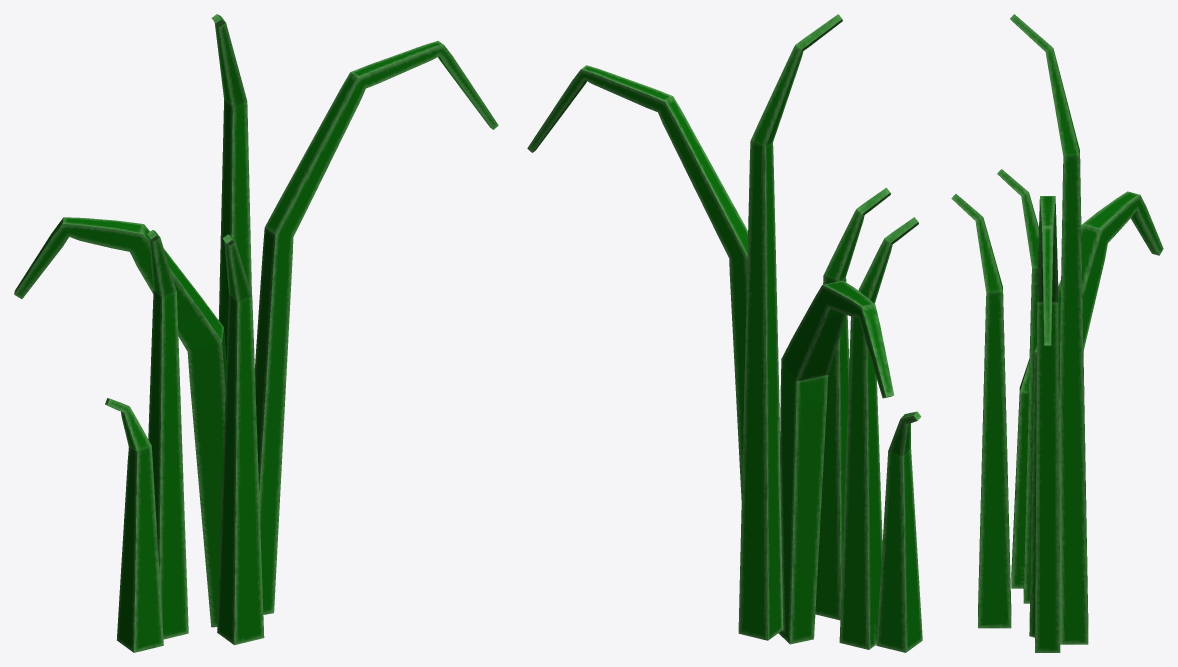
Rendered from Grass1.fbx.
The picture shows the model from 3 angles, left to right: view 1: azimuth 30°, elevation 25°; view 2: azimuth 150°, elevation 25°; view 3: azimuth 270°, elevation 25°; orthographic projection. The views are drawn at different scales.
Visible parts, largest first — view 1: Cube.021; view 2: Cube.021; view 3: Cube.021.
Boxes of the visible parts, x1,y1,x2,y2 form: Cube.021: (14,14,498,652); Cube.021: (527,14,922,652); Cube.021: (951,14,1163,652).
Bounding box in the file's own units: 8.57 × 12.02 × 3.79.
